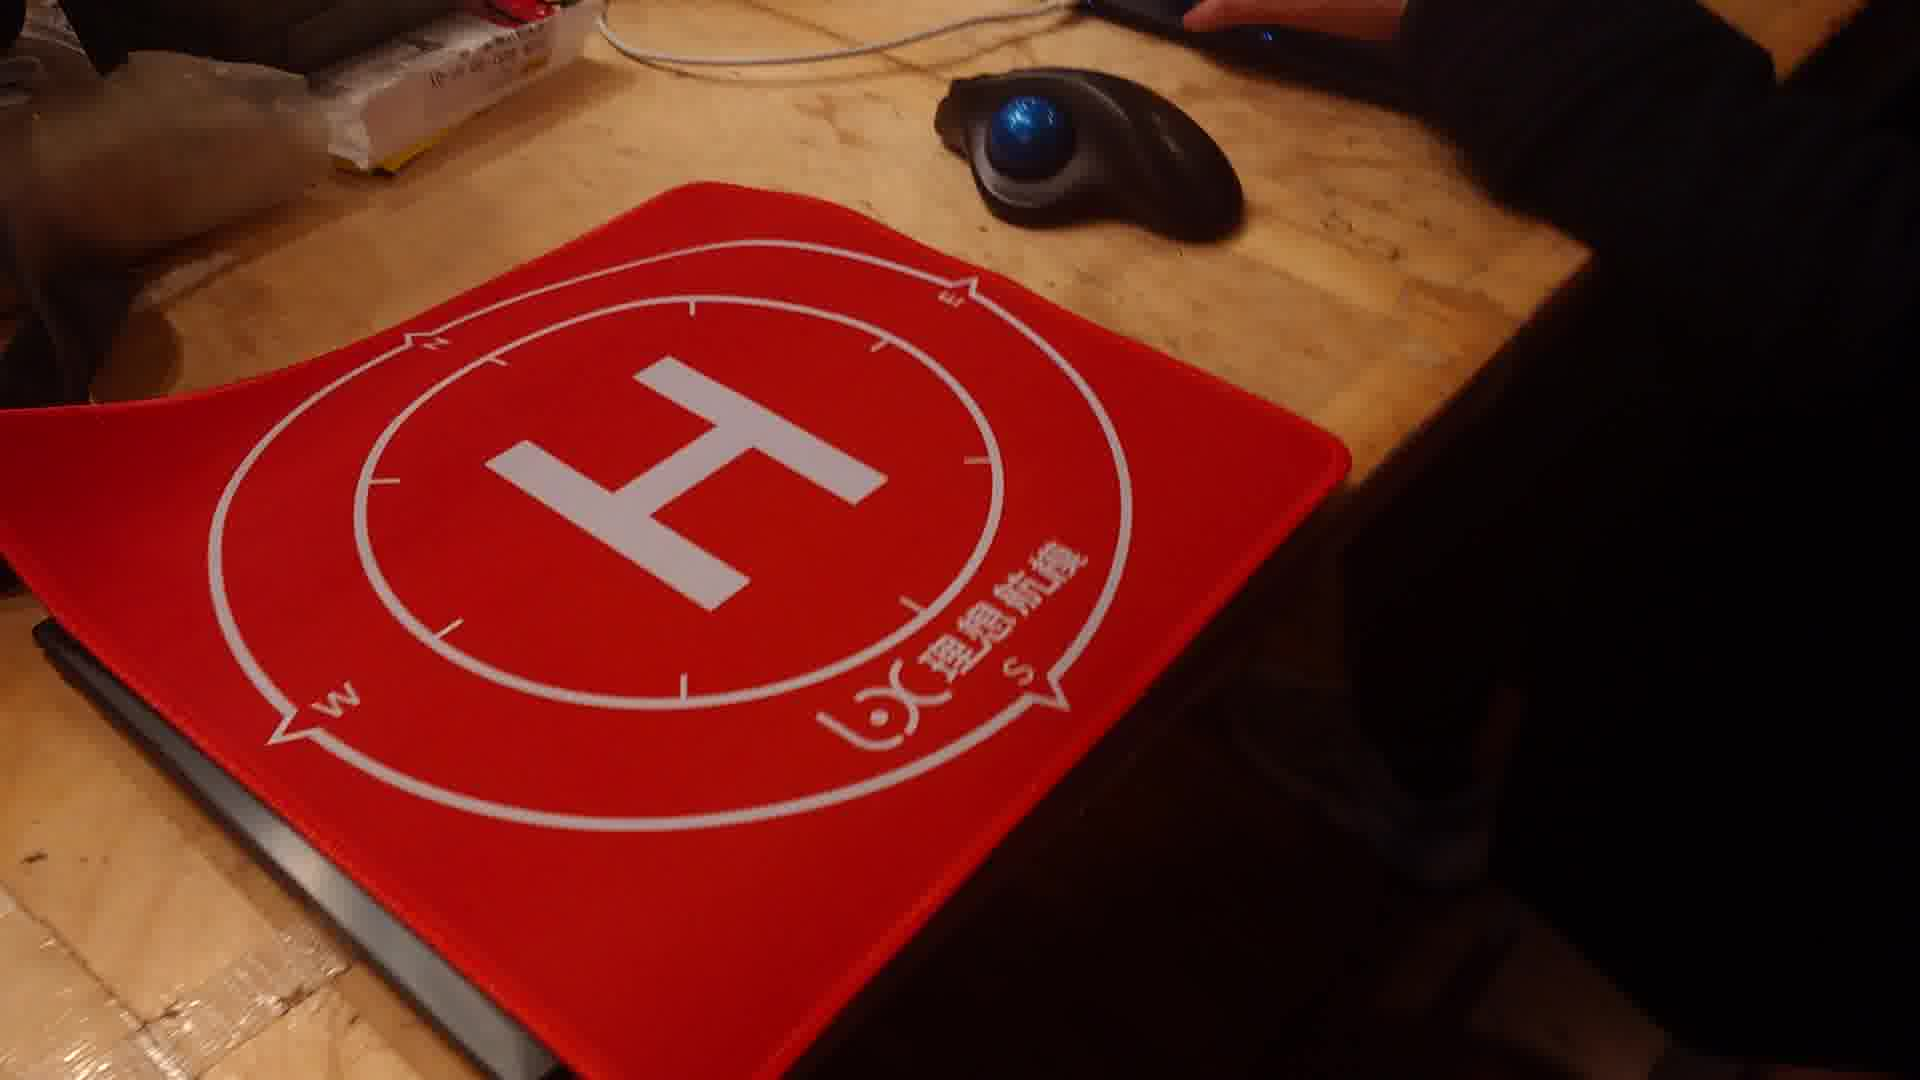H: (481, 356, 891, 611)
